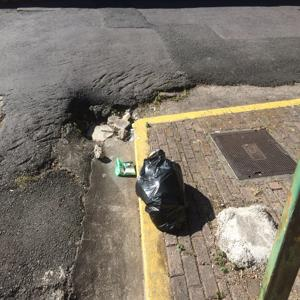cardboard: (111, 156, 140, 180)
plastic: (121, 141, 195, 232)
